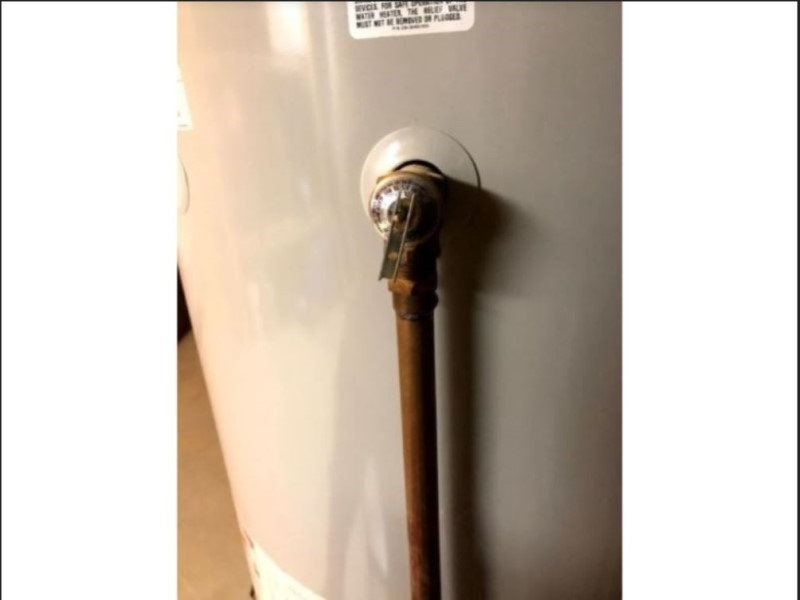Valve: (369, 159, 458, 323)
